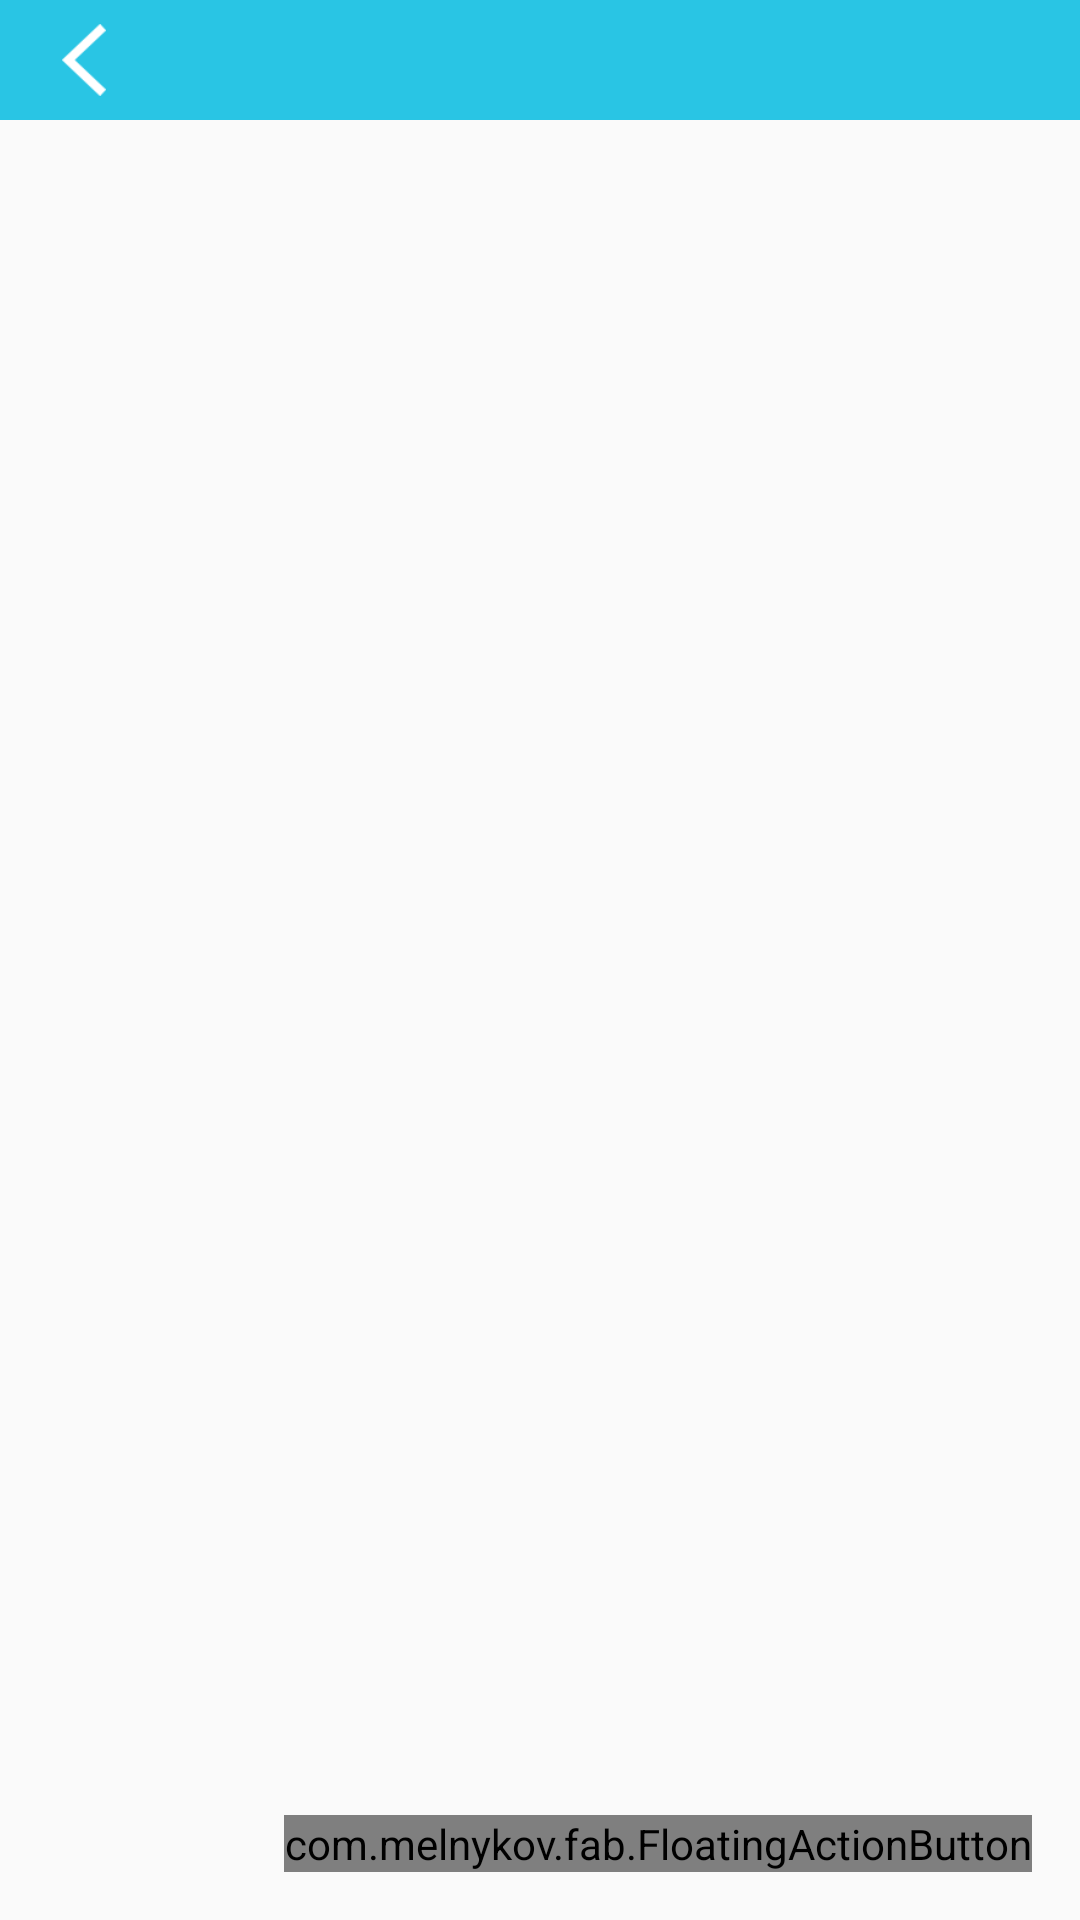

Screen size 1080px×1920px. Icon name, then its center in pixels as point (x, y):
booth back: point (84, 60)
